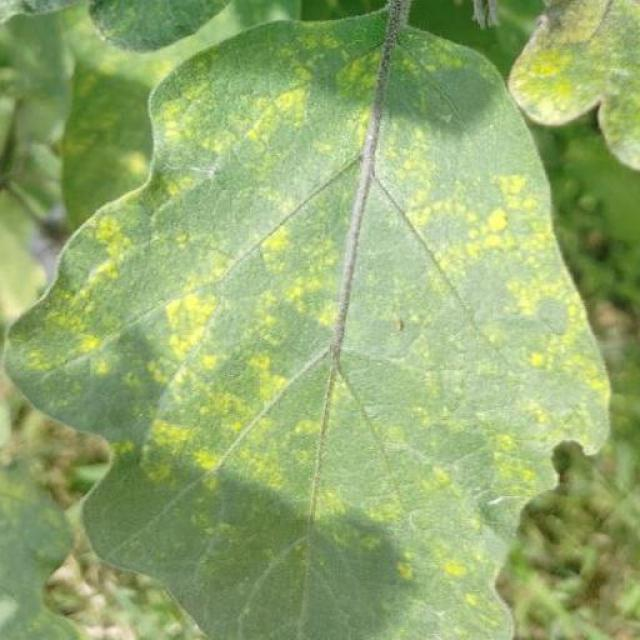leaf_spot: (330, 229, 482, 462), (352, 468, 524, 630), (506, 0, 640, 171), (332, 30, 440, 188), (502, 272, 619, 413), (27, 274, 138, 406), (175, 492, 314, 591), (391, 159, 498, 268), (481, 166, 566, 294), (135, 402, 228, 501), (154, 85, 236, 197), (224, 71, 316, 159), (468, 418, 547, 507), (161, 281, 234, 375), (273, 254, 347, 338), (213, 431, 297, 498), (84, 204, 142, 282), (235, 346, 293, 419), (263, 392, 340, 446), (407, 449, 469, 506), (608, 551, 638, 640), (106, 131, 159, 180), (252, 220, 300, 270)
